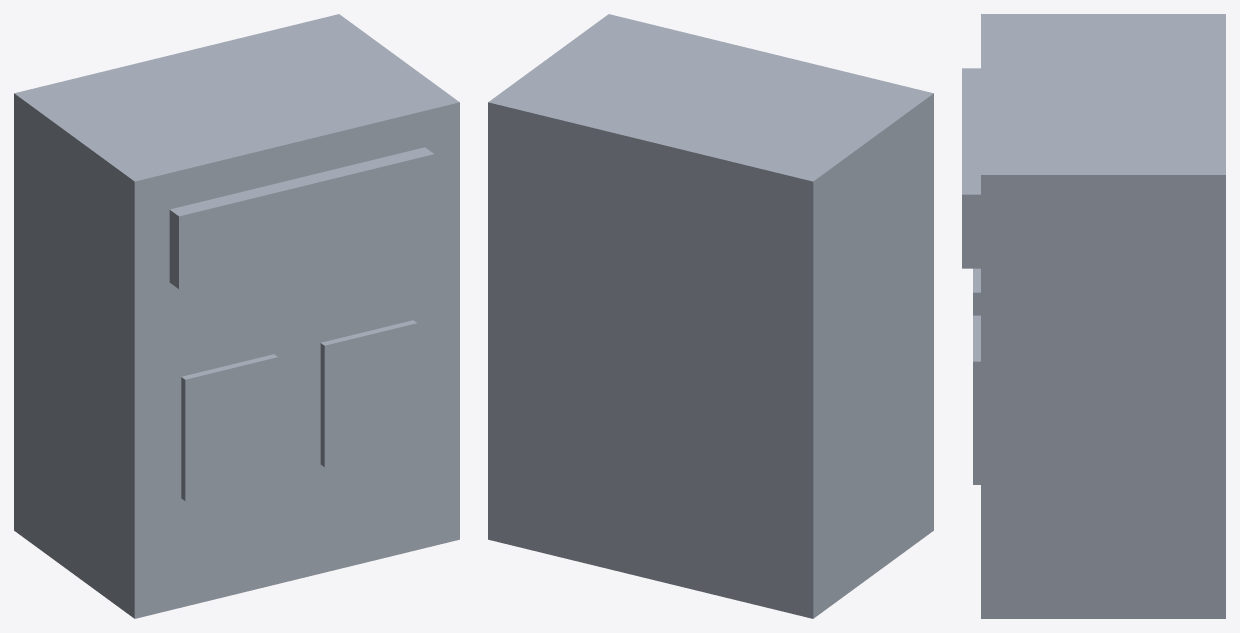
The model's file is energy.glb.
3 renders of one model, left to right at view 1: azimuth 30°, elevation 25°; view 2: azimuth 150°, elevation 25°; view 3: azimuth 270°, elevation 25°, orthographic.
Size of the model in its own units: 0.7778 by 1 by 0.5389.
